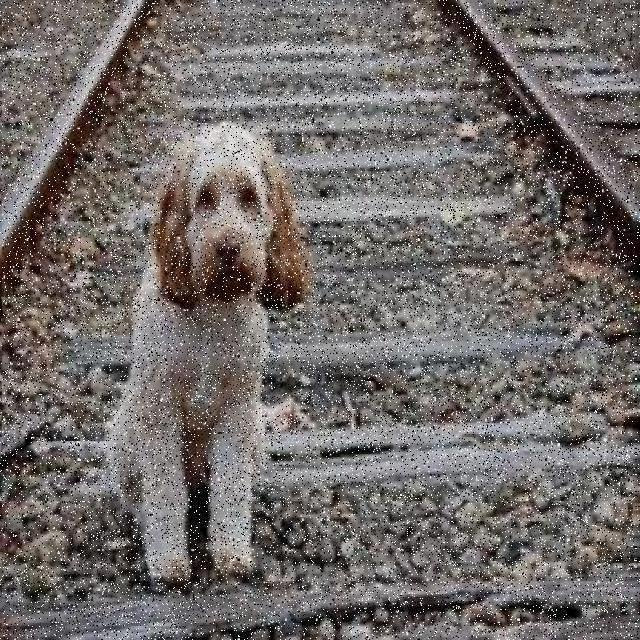rail: (3, 1, 637, 640)
